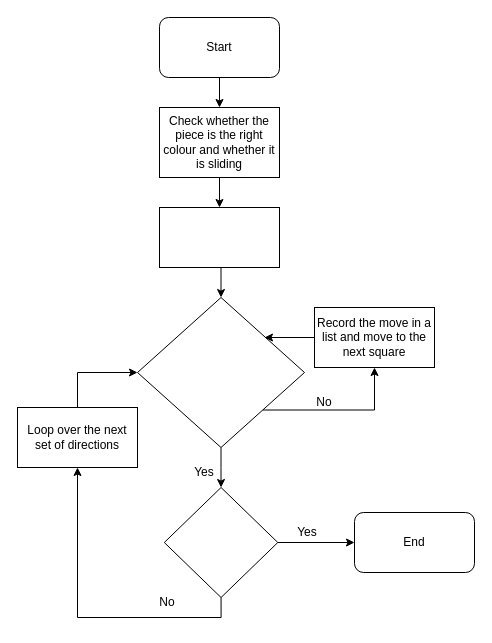
This 492x643 diagram has some shape labels left out. Each missing label, with the centre of its shape:
"Check what type of piece it is and loop over the directions the piece can move" belongs at pixel 219 237.
"Have we iterated over all directions?" belongs at pixel 220 542.
"Have we reached the edge or is another piece blocking our movement?" belongs at pixel 220 372.
